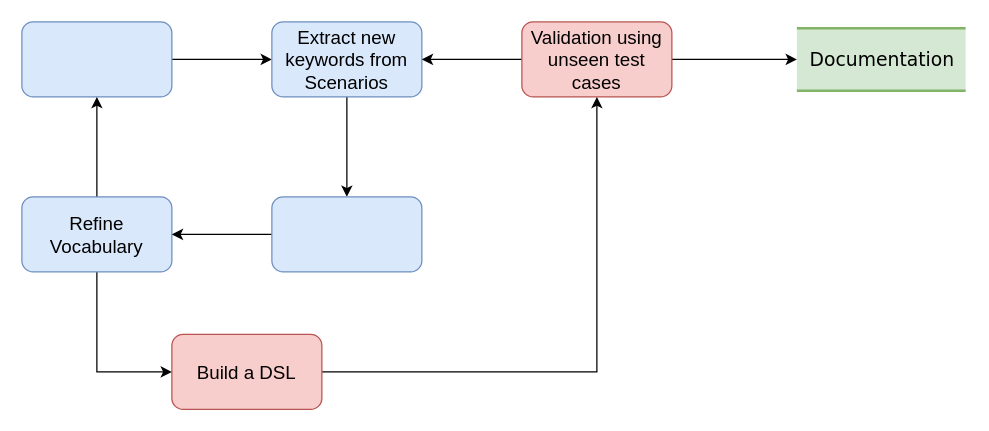
Image size: 989x431. Some labels were removed from this diagram. Here are the shapes that lost their labels. From the top down, the box of each, then its label:
(21, 21, 172, 97): Create Sample Scenarios
(271, 196, 422, 272): Add keywords to Language Vocabulary
